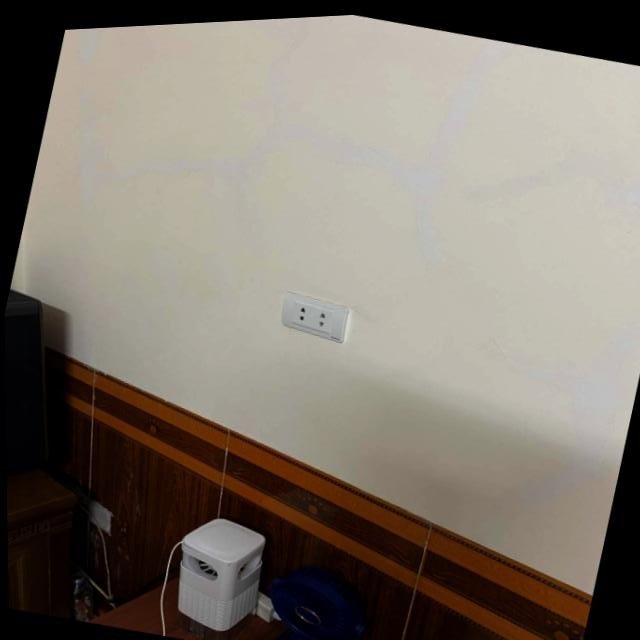outlet: (277, 287, 354, 347)
